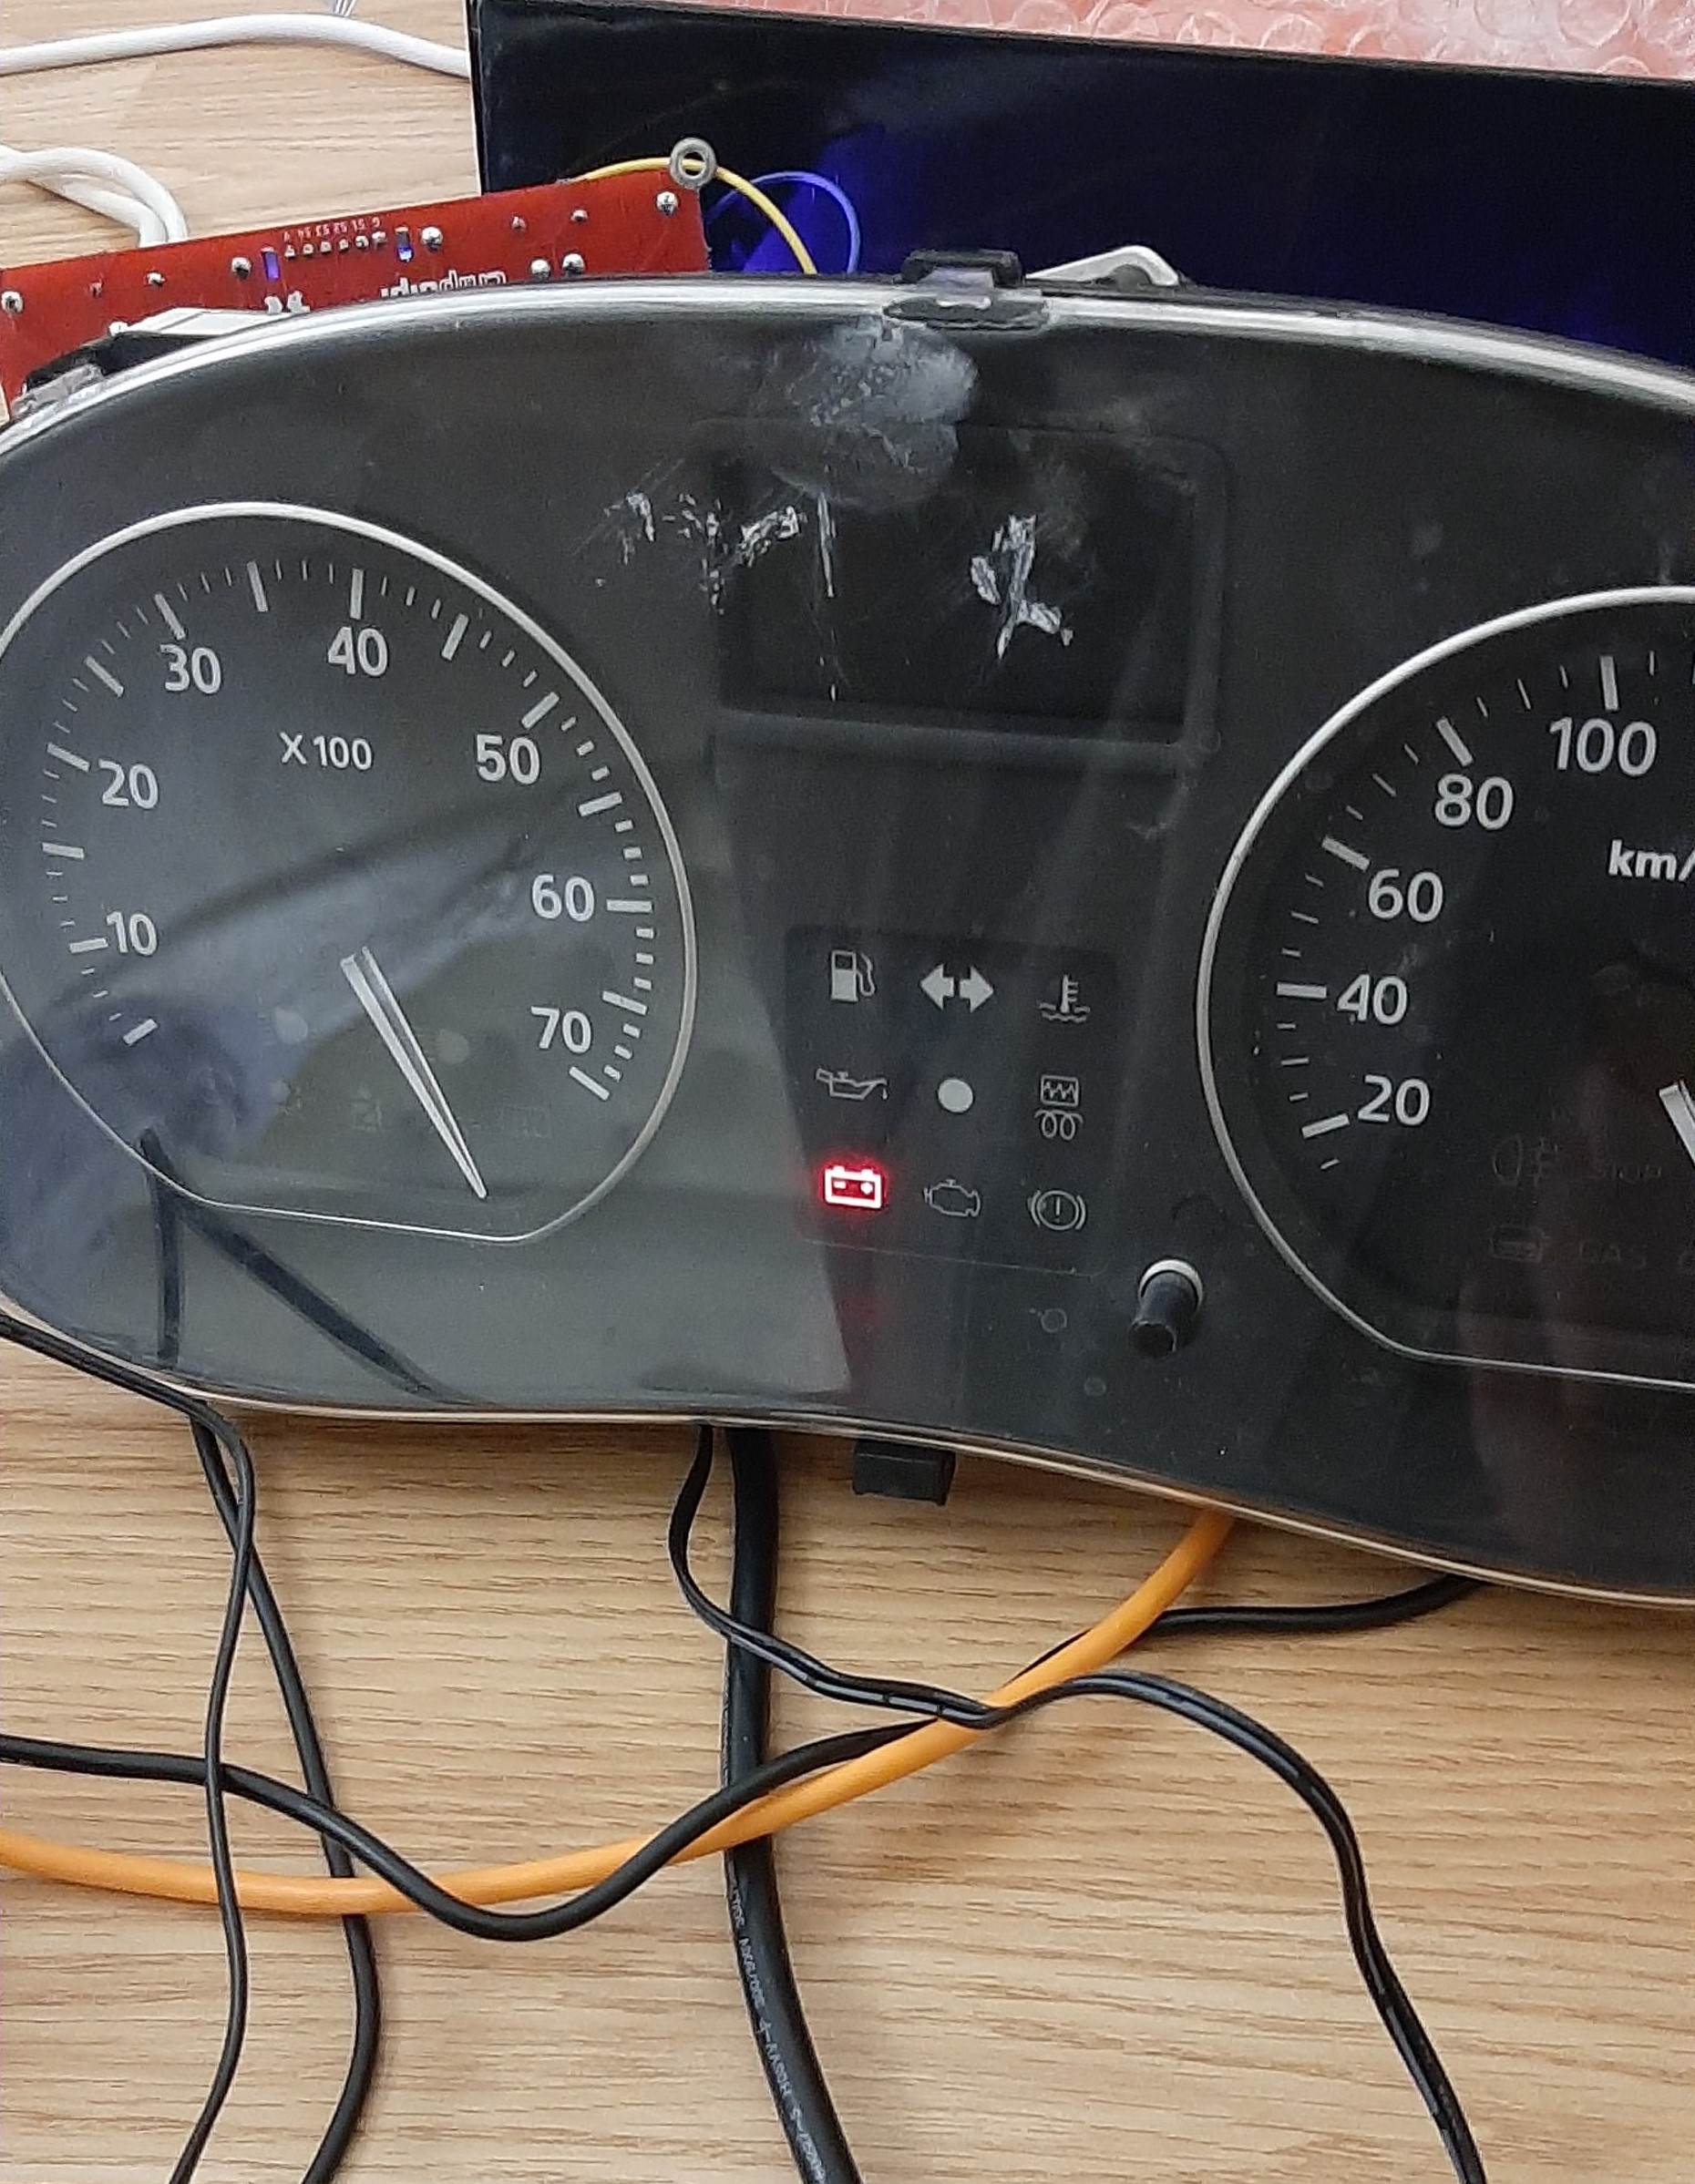accomulator28: (817, 1156, 888, 1218)
